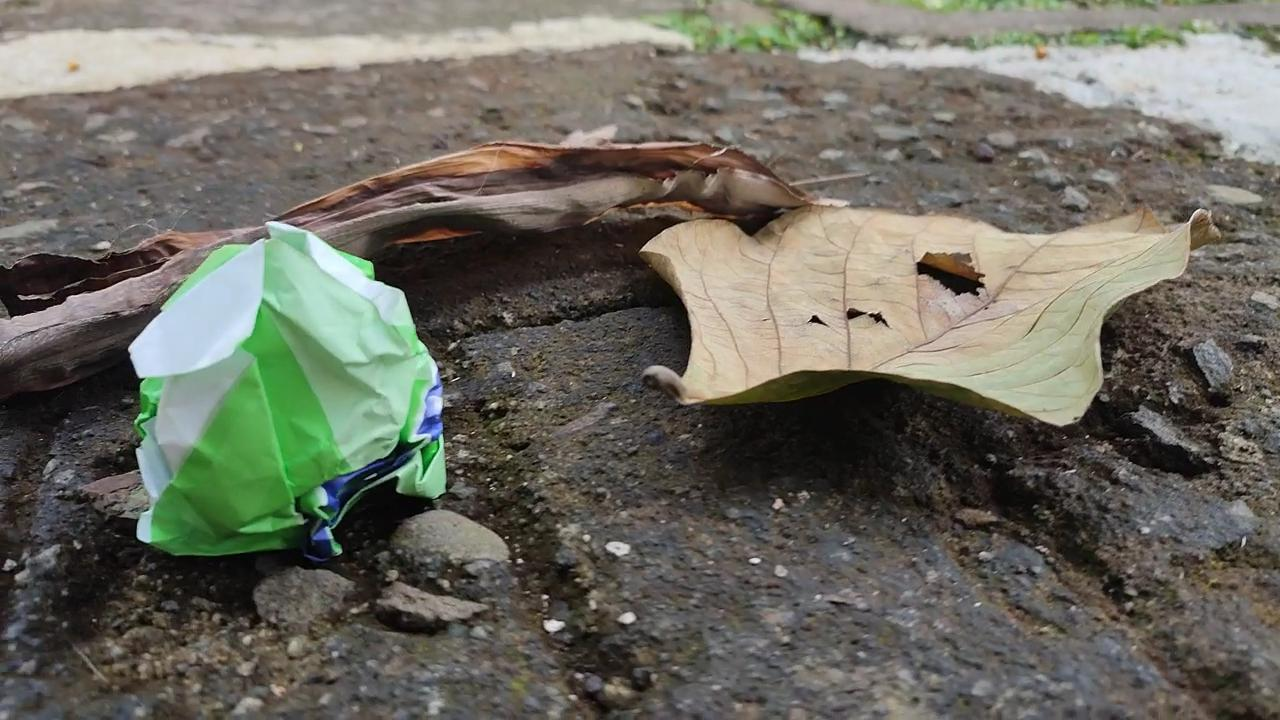Paper: (121, 221, 469, 570)
